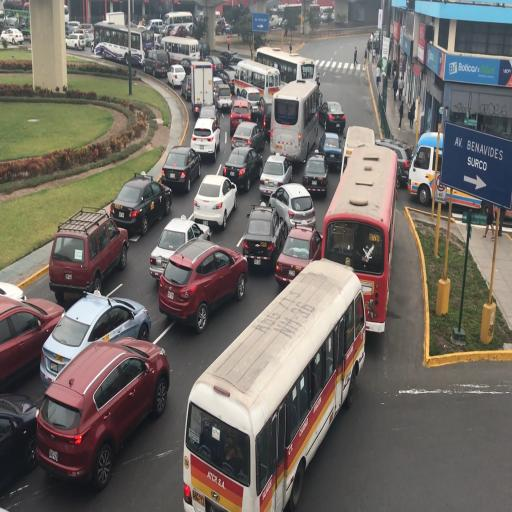auto: (38, 336, 168, 490), (42, 288, 150, 380), (158, 238, 247, 329), (49, 206, 128, 301), (0, 292, 66, 394), (0, 394, 41, 494), (110, 173, 171, 237), (148, 218, 210, 280), (241, 202, 285, 274), (275, 224, 324, 288), (192, 173, 237, 230), (270, 181, 314, 232), (158, 145, 200, 193), (222, 145, 262, 193), (373, 137, 408, 189), (258, 152, 293, 199), (190, 114, 220, 160), (230, 90, 260, 132), (230, 120, 264, 153), (318, 130, 343, 172), (318, 102, 344, 134), (144, 48, 169, 78), (212, 82, 232, 114), (197, 101, 218, 129), (0, 279, 25, 301), (219, 67, 238, 92), (167, 64, 186, 88), (204, 54, 223, 75), (180, 74, 194, 102), (1, 28, 24, 45), (65, 32, 86, 50), (216, 50, 234, 66), (79, 29, 95, 47), (227, 53, 246, 68), (169, 24, 189, 38), (147, 19, 165, 32), (65, 20, 81, 34), (160, 24, 174, 37), (216, 20, 226, 35), (276, 16, 284, 28), (224, 21, 231, 34), (281, 18, 288, 27)
moto: (183, 261, 357, 501), (324, 140, 396, 334), (409, 131, 508, 216), (269, 78, 319, 167), (238, 57, 284, 129), (255, 46, 315, 94), (94, 22, 145, 66), (340, 124, 373, 178), (162, 34, 200, 66), (92, 20, 111, 53), (163, 11, 193, 29), (316, 5, 334, 23)
